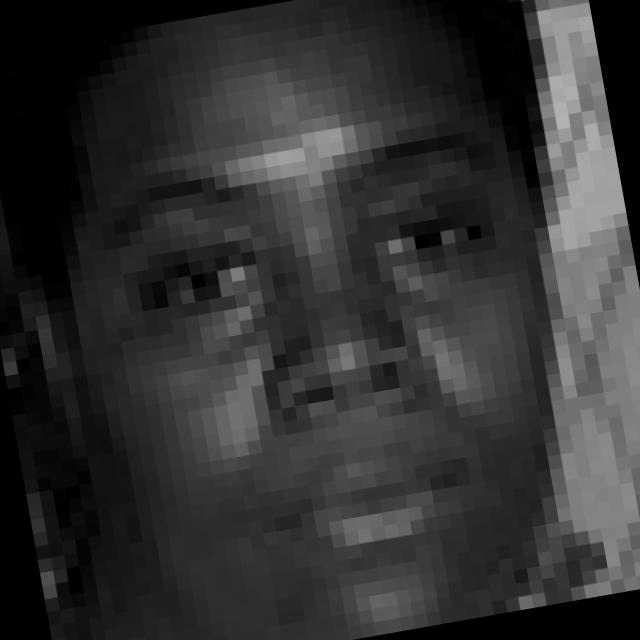neutral: (89, 110, 562, 605)
